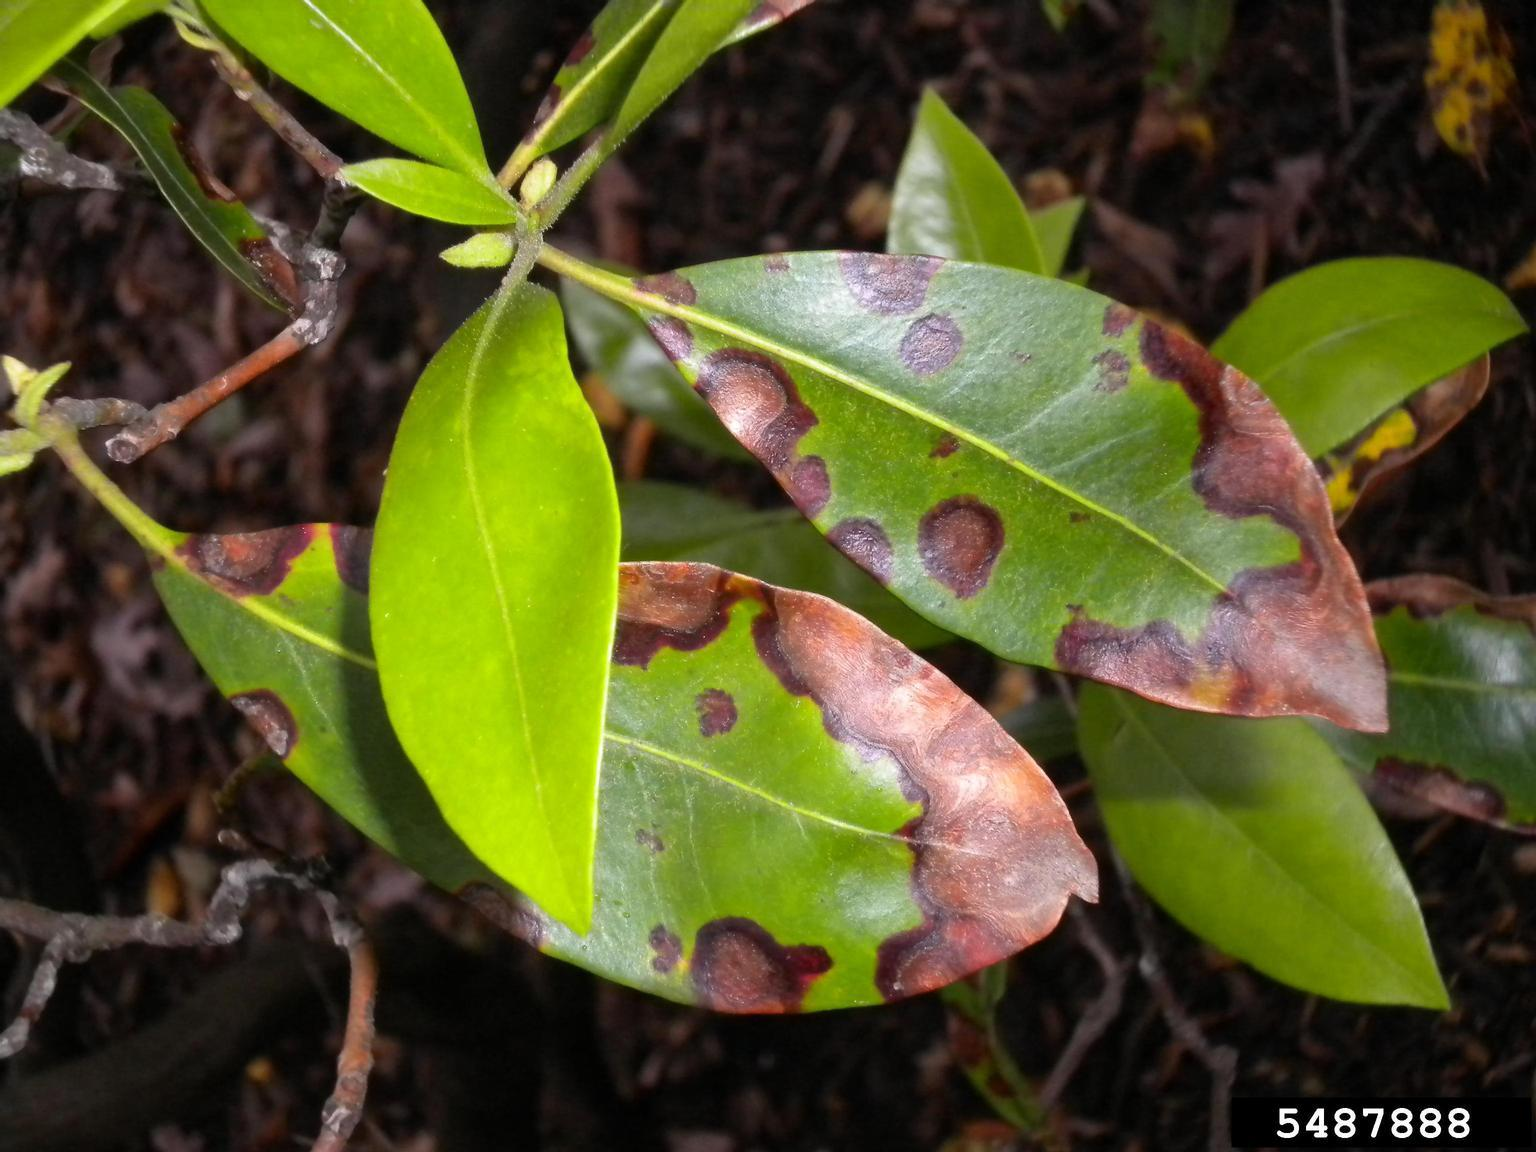late_blight: (613, 561, 1095, 997), (1062, 321, 1385, 728), (841, 255, 962, 381), (691, 916, 828, 1012), (695, 350, 810, 461), (917, 495, 1004, 605), (179, 526, 317, 594), (464, 882, 543, 941), (830, 518, 893, 586), (233, 689, 298, 753), (685, 679, 746, 735), (327, 526, 369, 591)
